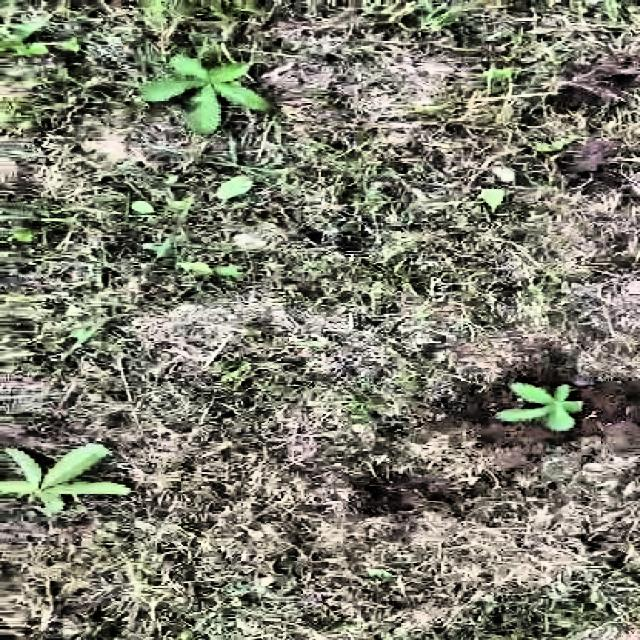Weeds: (135, 53, 274, 138), (2, 440, 132, 518), (497, 382, 592, 438)
